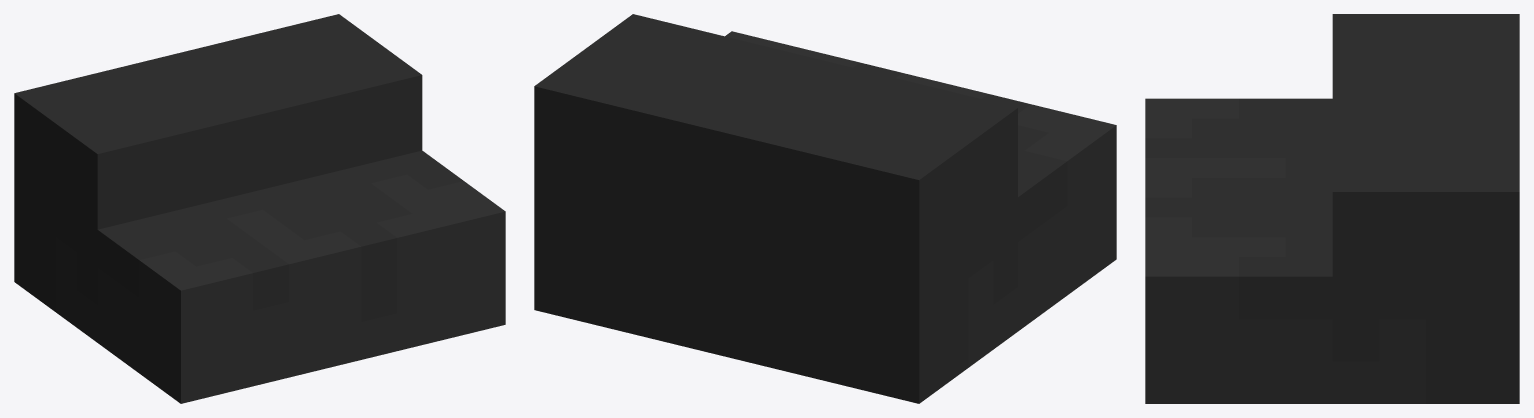
File: ConstructionMaterials-78.obj
The picture shows the model from 3 angles, left to right: view 1: azimuth 30°, elevation 25°; view 2: azimuth 150°, elevation 25°; view 3: azimuth 270°, elevation 25°; orthographic projection. The views are drawn at different scales.
Bounding box in the file's own units: 0.9 × 0.5 × 0.8.
1 material, 1 textured.
